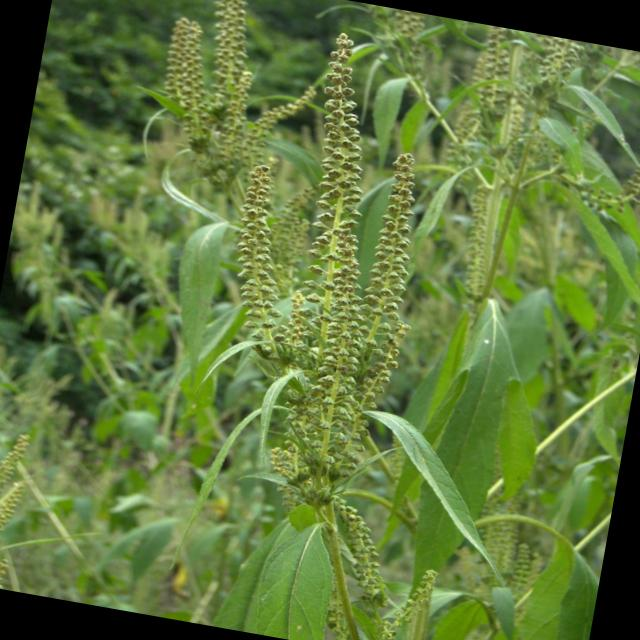ambrosia: (162, 13, 526, 615), (134, 0, 266, 143)
